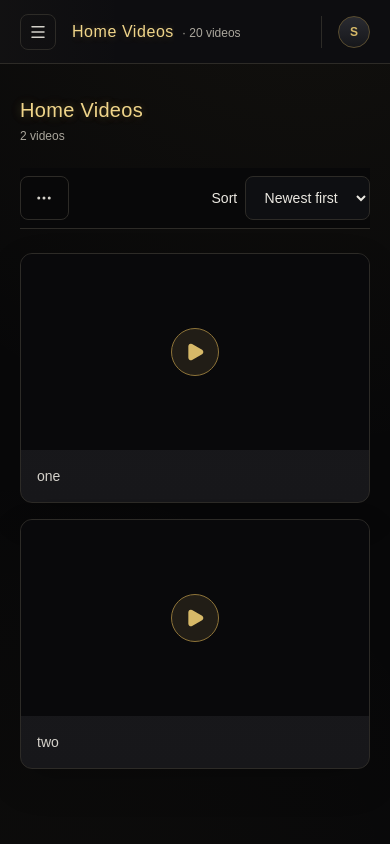
Test case: Home Videos keeps real shell, sticky controls, separate mobile actions and Sort
This screenshot has width=390, height=844.
Expected: the button named "Toggle navigation" is shown, [20,14,56,50]
Click the button named "Home Videos actions" at (44, 198), box [20,176,69,220]
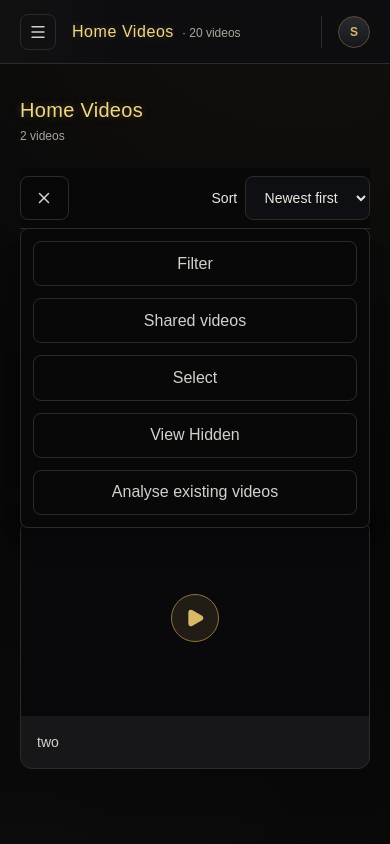
Result: the element with id "home-videos-context-actions" shows "Filter" at [33,241,357,286]
Result: the element with id "home-videos-context-actions" shows "Shared videos" at [33,298,357,343]
Result: the element with id "home-videos-context-actions" shows "Select" at [33,355,357,401]
